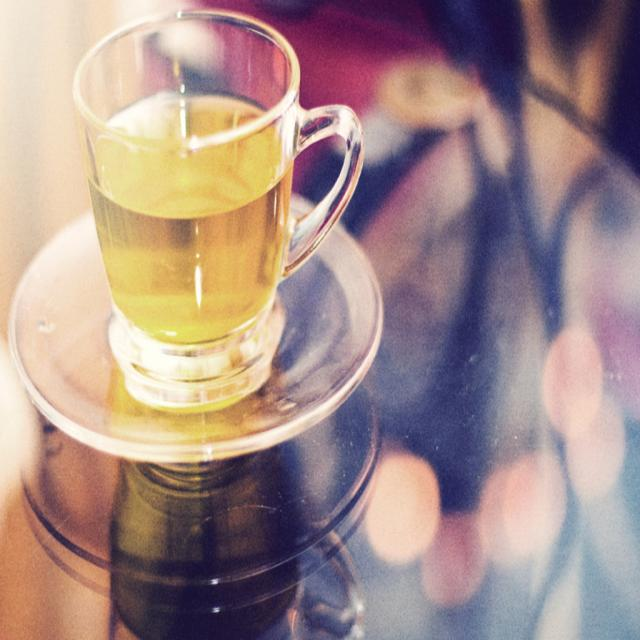Tea: (87, 90, 295, 351)
